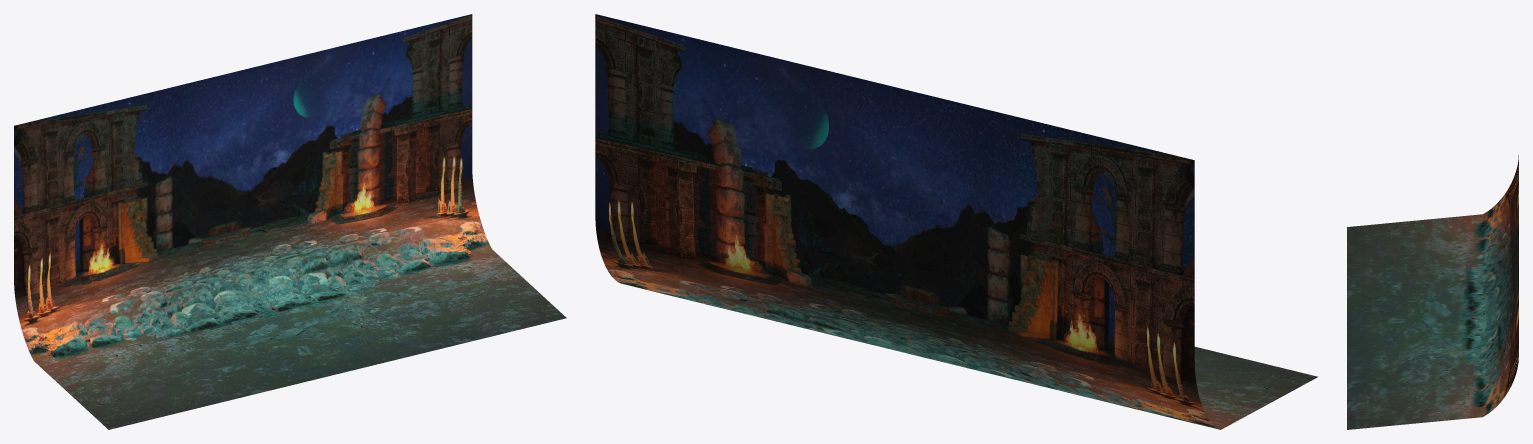
The model's file is lubby 3.fbx.
3 views of the same model, side by side, from view 1: azimuth 30°, elevation 25°; view 2: azimuth 150°, elevation 25°; view 3: azimuth 270°, elevation 25° (orthographic). The views are drawn at different scales.
Parts seen in each view (by area): view 1: lubby_00105; view 2: lubby_00105; view 3: lubby_00105.
Boxes of the visible parts, left/top/right/bottom form: lubby_00105: left=14, top=14, right=566, bottom=429; lubby_00105: left=595, top=14, right=1318, bottom=429; lubby_00105: left=1347, top=155, right=1518, bottom=429.
Bounding box in the file's own units: 484 × 237 × 173.
1 material, 1 textured.
